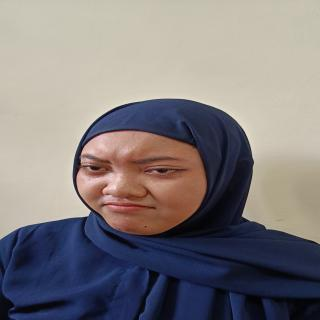Marah: (68, 128, 225, 241)
